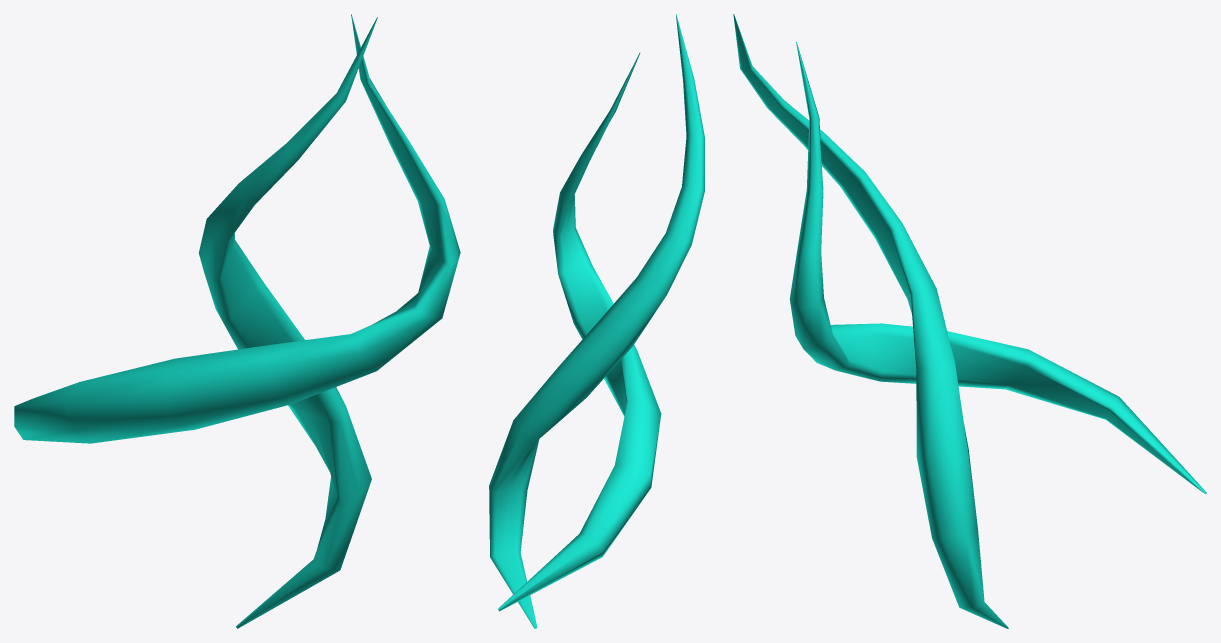
Rendered from Gate1_tail.fbx.
3 views of the same model, side by side, from view 1: azimuth 30°, elevation 25°; view 2: azimuth 150°, elevation 25°; view 3: azimuth 270°, elevation 25° (orthographic). The views are drawn at different scales.
Visible parts, largest first — view 1: Tail; view 2: Tail; view 3: Tail.
Part boxes in pixels (x1=…): Tail: x1=14, y1=14, x2=460, y2=628; Tail: x1=489, y1=14, x2=704, y2=628; Tail: x1=733, y1=14, x2=1206, y2=628.
Bounding box in the file's own units: 0.9928 × 2.64 × 1.88.
